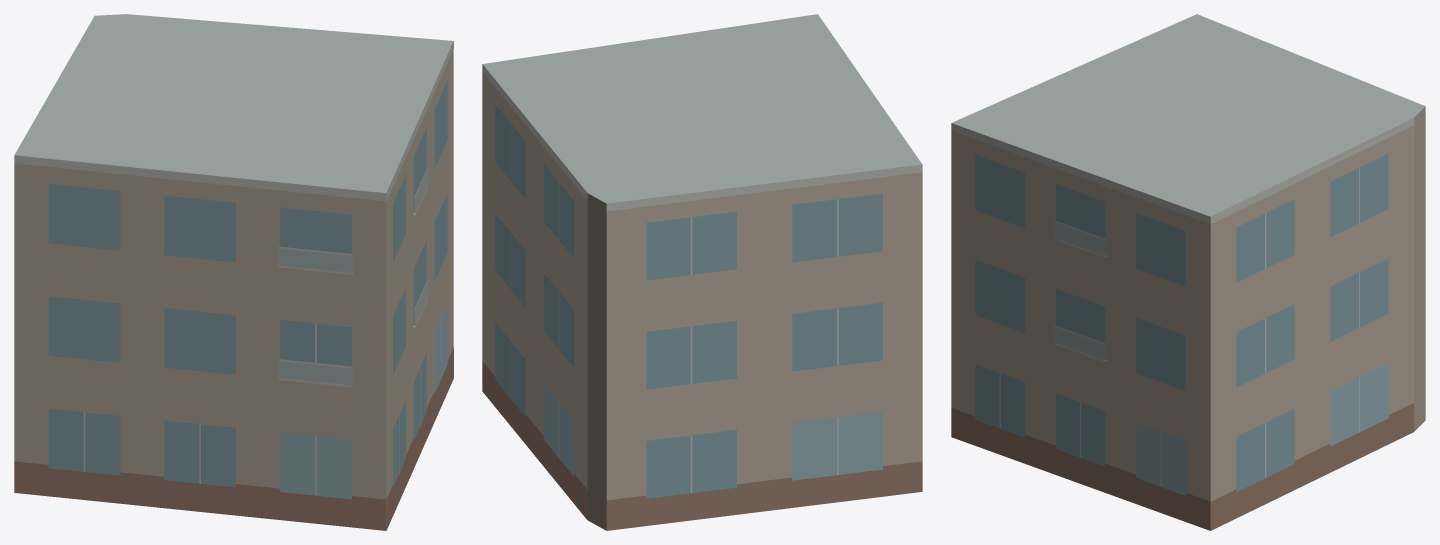
The model's file is survey-upis-32867937.glb.
3 renders of one model, left to right at view 1: azimuth 30°, elevation 25°; view 2: azimuth 150°, elevation 25°; view 3: azimuth 270°, elevation 25°, orthographic. The views are drawn at different scales.
Visible parts, largest first — view 1: survey-upis-32867937.tmp; view 2: survey-upis-32867937.tmp; view 3: survey-upis-32867937.tmp.
Boxes of the visible parts, box(x1,y1,x2,y2) form: survey-upis-32867937.tmp: box(14, 14, 453, 530); survey-upis-32867937.tmp: box(482, 14, 922, 530); survey-upis-32867937.tmp: box(951, 14, 1425, 530).
Size of the model in its own units: 14.13 by 10.2 by 13.97.
